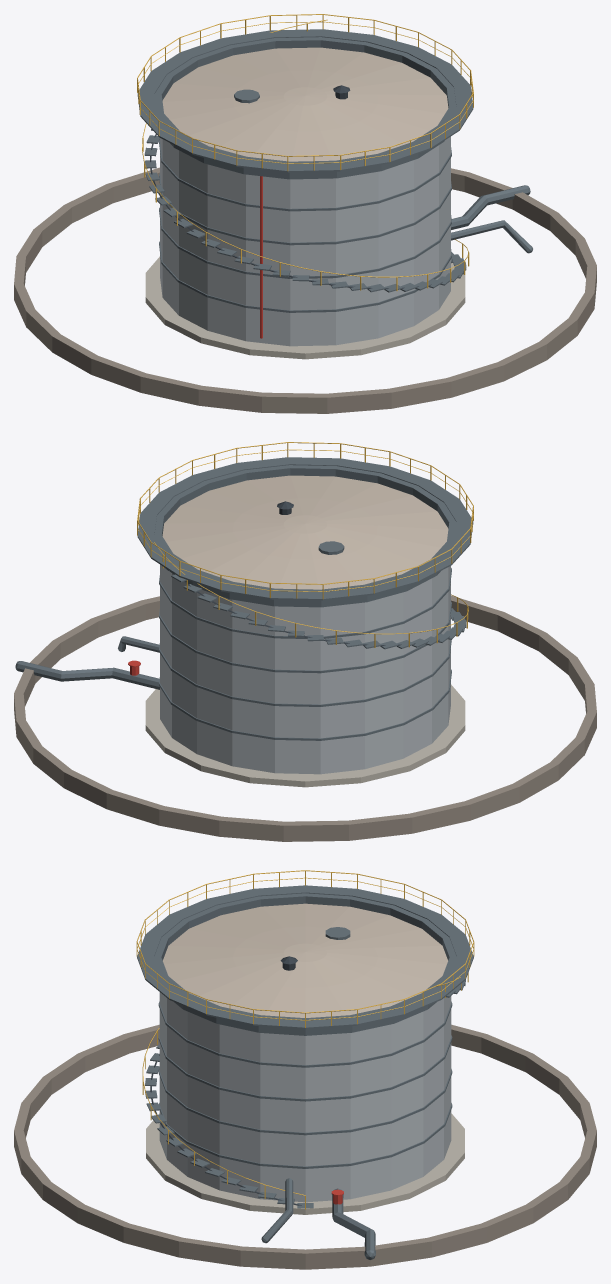
File: RURAL_07.obj
The picture shows the model from 3 angles, top to bottom: view 1: azimuth 30°, elevation 25°; view 2: azimuth 150°, elevation 25°; view 3: azimuth 270°, elevation 25°; orthographic projection.
Parts seen in each view (by area): view 1: shell, roof, bund_wall, top_walkway, roof_rim, pad, weld_bands, top_rail, stair_treads, pipes, stair_handrail; view 2: shell, roof, bund_wall, top_walkway, roof_rim, pad, weld_bands, top_rail, stair_treads, pipes; view 3: shell, roof, bund_wall, top_walkway, roof_rim, pad, weld_bands, top_rail, stair_treads, pipes.
Boxes of the visible parts, x1,y1,x2,y2 form: shell: [160, 136, 450, 346]; roof: [162, 47, 448, 161]; bund_wall: [14, 167, 596, 413]; top_walkway: [137, 29, 473, 172]; roof_rim: [154, 37, 456, 179]; pad: [145, 256, 465, 359]; weld_bands: [159, 140, 451, 312]; top_rail: [137, 14, 473, 171]; stair_treads: [144, 129, 466, 292]; pipes: [451, 185, 532, 253]; stair_handrail: [142, 19, 468, 277]; shell: [160, 564, 450, 774]; roof: [162, 475, 448, 589]; bund_wall: [14, 595, 596, 841]; top_walkway: [137, 457, 473, 600]; roof_rim: [154, 465, 456, 607]; pad: [145, 684, 465, 787]; weld_bands: [159, 568, 451, 740]; top_rail: [137, 442, 473, 599]; stair_treads: [164, 567, 466, 649]; pipes: [15, 636, 159, 689]; shell: [159, 992, 451, 1202]; roof: [163, 903, 447, 1017]; bund_wall: [14, 1024, 596, 1269]; top_walkway: [137, 885, 473, 1028]; roof_rim: [154, 893, 456, 1035]; pad: [146, 1113, 464, 1214]; weld_bands: [158, 1001, 452, 1168]; top_rail: [136, 870, 474, 1027]; stair_treads: [145, 980, 465, 1208]; pipes: [261, 1178, 375, 1260].
Size of the model in its own units: 36.28 by 13.98 by 36.
